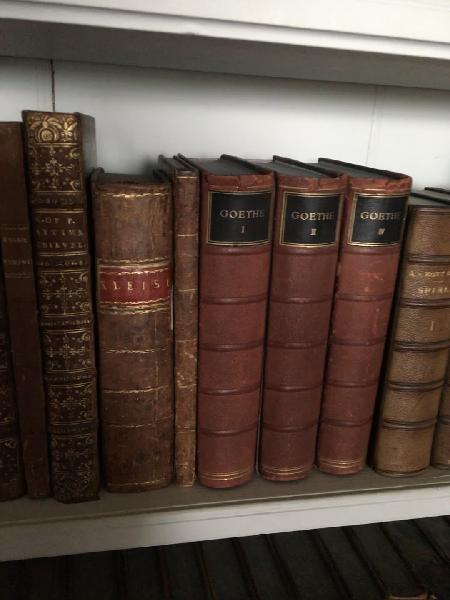Aa6-10: (171, 169, 200, 485)
Aa6-11_13: (203, 168, 398, 488)
Aa6-7: (1, 115, 53, 506)
Aa6-8: (17, 111, 100, 495)
Aa6-9: (84, 174, 173, 493)
